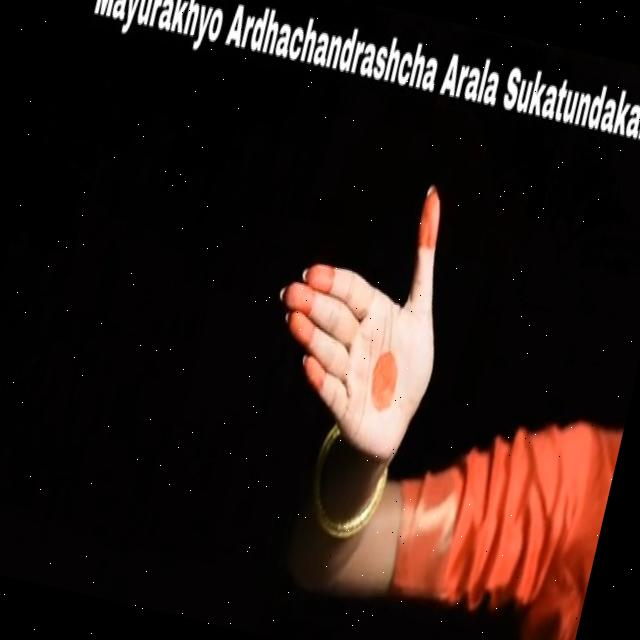Ardhachandra: (233, 138, 494, 480)
bangle: (286, 439, 399, 558)
text: (75, 0, 640, 170)
